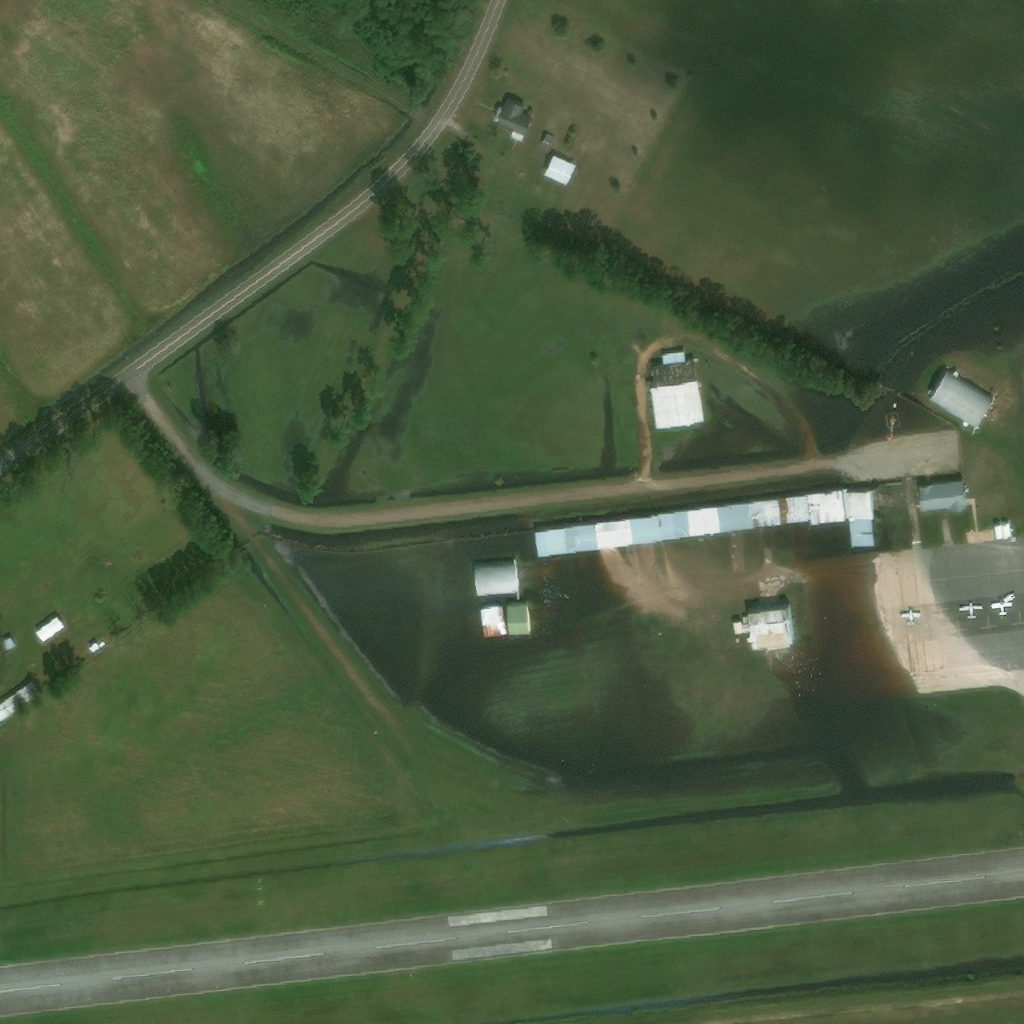major_damage: (647, 353, 709, 431), (733, 606, 798, 655), (843, 489, 876, 549), (472, 563, 524, 599), (808, 490, 845, 525), (592, 520, 628, 549), (626, 516, 660, 545), (686, 509, 720, 536), (535, 528, 566, 557), (479, 607, 507, 639), (718, 505, 751, 532), (565, 524, 595, 553), (778, 495, 808, 524), (659, 513, 690, 541), (749, 500, 779, 528), (505, 604, 531, 636)
no_damage: (927, 371, 997, 433), (1, 683, 41, 723), (493, 100, 531, 142), (916, 481, 963, 512), (544, 157, 575, 188), (35, 618, 66, 645), (88, 644, 109, 656), (542, 137, 557, 153), (993, 525, 1004, 542), (1001, 525, 1012, 541), (528, 112, 535, 119)
